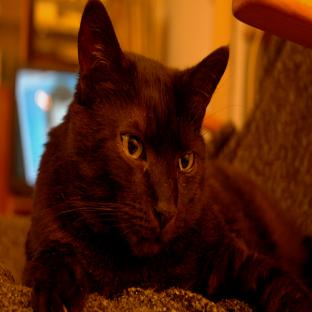Animal: (23, 0, 311, 311)
